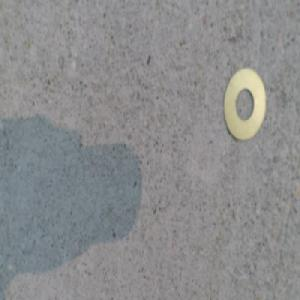Washer: (221, 67, 266, 143)
